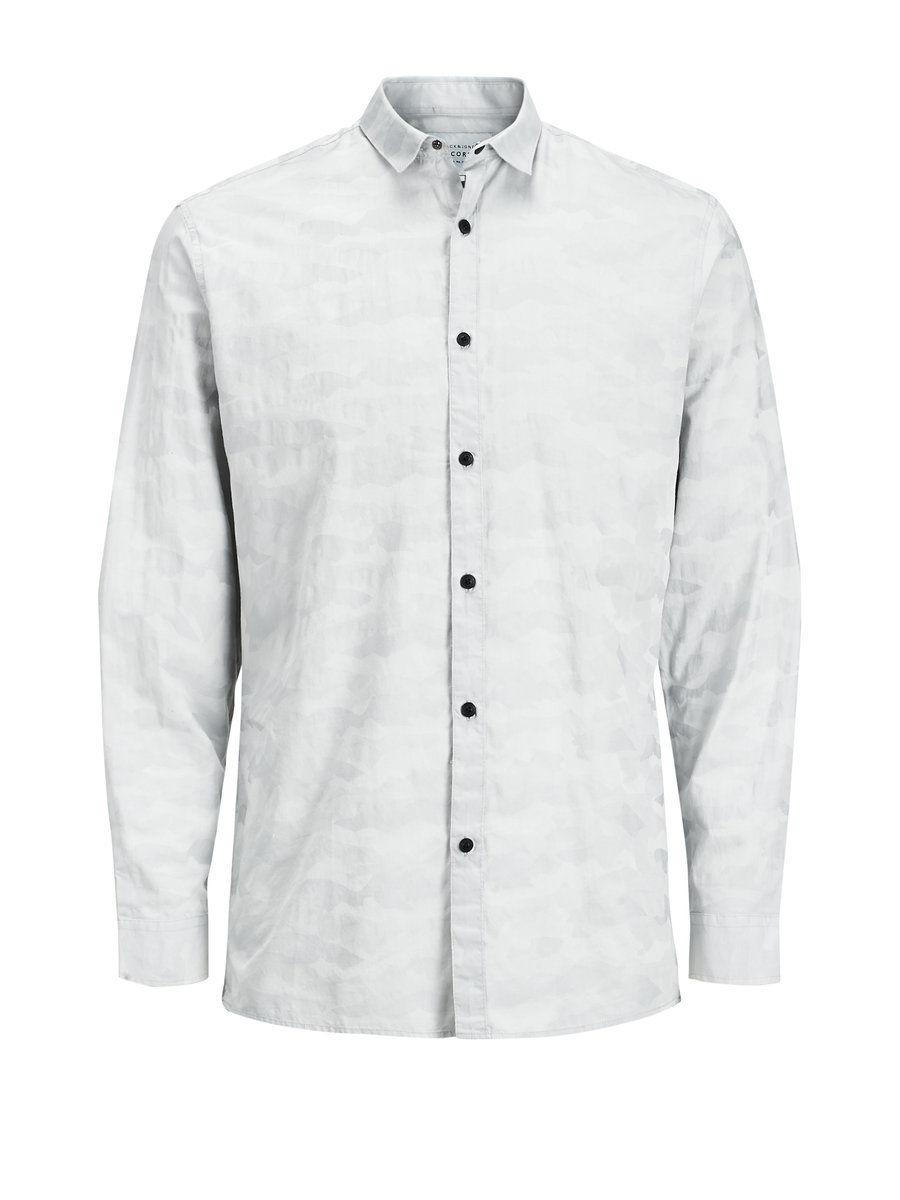teeshirt: (85, 69, 803, 1073)
